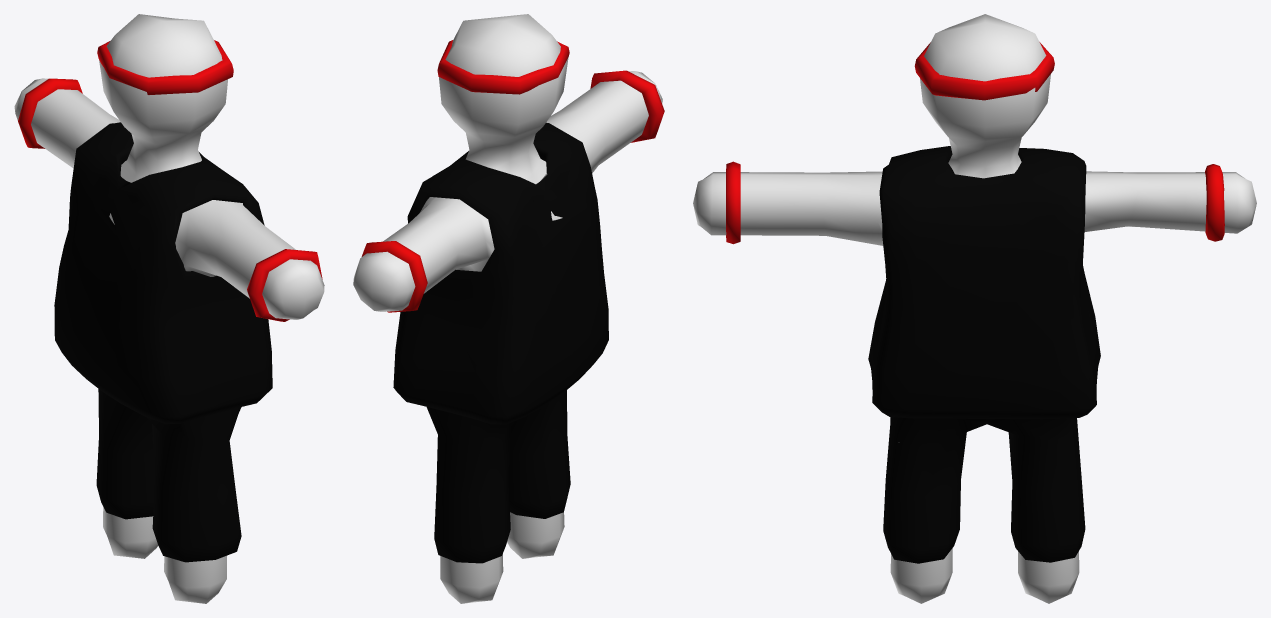
The model's file is JAMJ1111 (1).fbx.
3 renders of one model, left to right at view 1: azimuth 30°, elevation 25°; view 2: azimuth 150°, elevation 25°; view 3: azimuth 270°, elevation 25°, orthographic. The views are drawn at different scales.
Visible parts, largest first — view 1: Cube.009; view 2: Cube.009; view 3: Cube.009.
Part boxes in pixels (<box>): Cube.009: <box>14,14,324,603</box>; Cube.009: <box>353,14,664,603</box>; Cube.009: <box>693,14,1256,603</box>.
Size of the model in its own units: 171 by 679 by 601.
